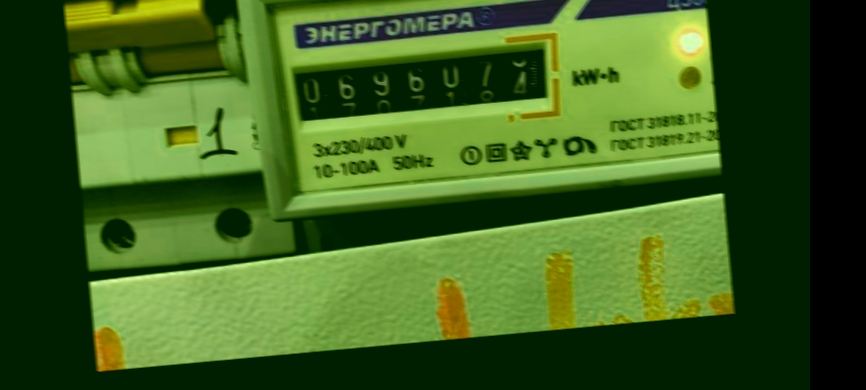0: (299, 71, 322, 102), (439, 55, 461, 86)
4: (507, 65, 529, 94)
6: (333, 66, 358, 98), (405, 60, 426, 90)
7: (474, 53, 494, 84)
9: (370, 64, 390, 95)
screen: (273, 22, 565, 137)
